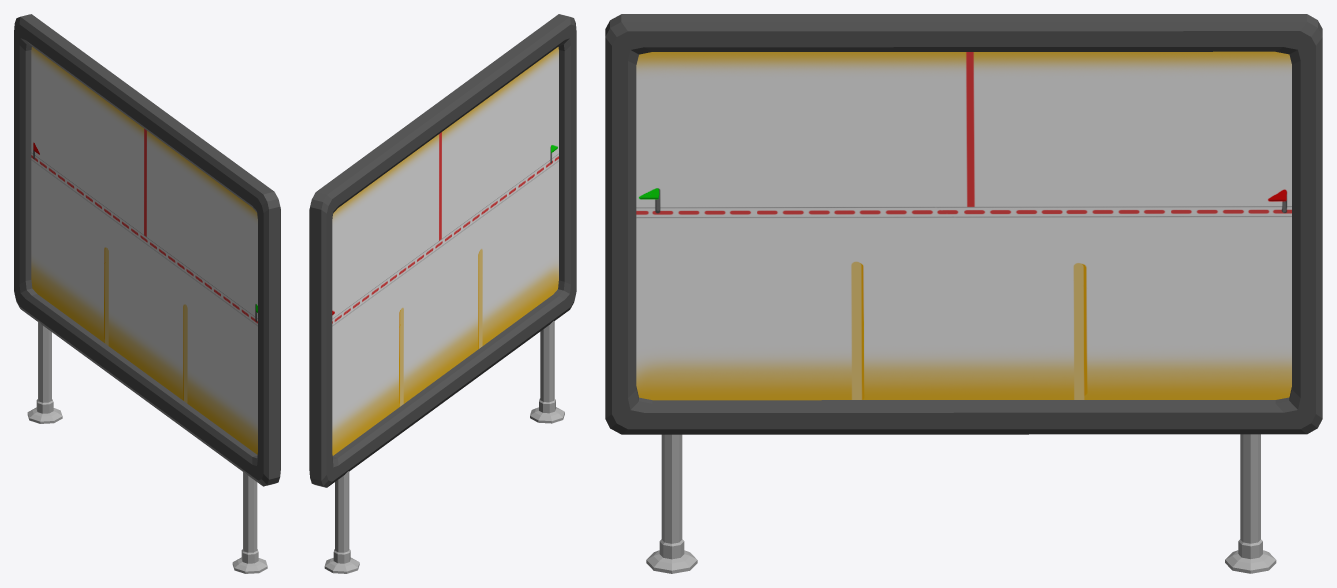
Rendered from Quadro.fbx.
3 views of the same model, side by side, from view 1: azimuth 30°, elevation 25°; view 2: azimuth 150°, elevation 25°; view 3: azimuth 270°, elevation 25° (orthographic). The views are drawn at different scales.
Visible parts, largest first — view 1: Plane.001, Quadro, Cylinder, Cylinder.001; view 2: Plane.001, Quadro, Cylinder.001, Cylinder; view 3: Plane.001, Quadro, Cylinder, Cylinder.001.
Boxes of the visible parts, box(x1,y1,x2,y2) form: Plane.001: box(31, 47, 257, 454); Quadro: box(14, 14, 280, 486); Cylinder: box(232, 471, 267, 573); Cylinder.001: box(27, 321, 62, 423); Plane.001: box(332, 47, 558, 455); Quadro: box(309, 14, 576, 487); Cylinder.001: box(324, 471, 359, 573); Cylinder: box(530, 321, 564, 423); Plane.001: box(636, 51, 1291, 400); Quadro: box(605, 14, 1322, 434); Cylinder: box(646, 434, 697, 573); Cylinder.001: box(1225, 434, 1276, 573).
Size of the model in its own units: 18.18 by 212 by 253.
